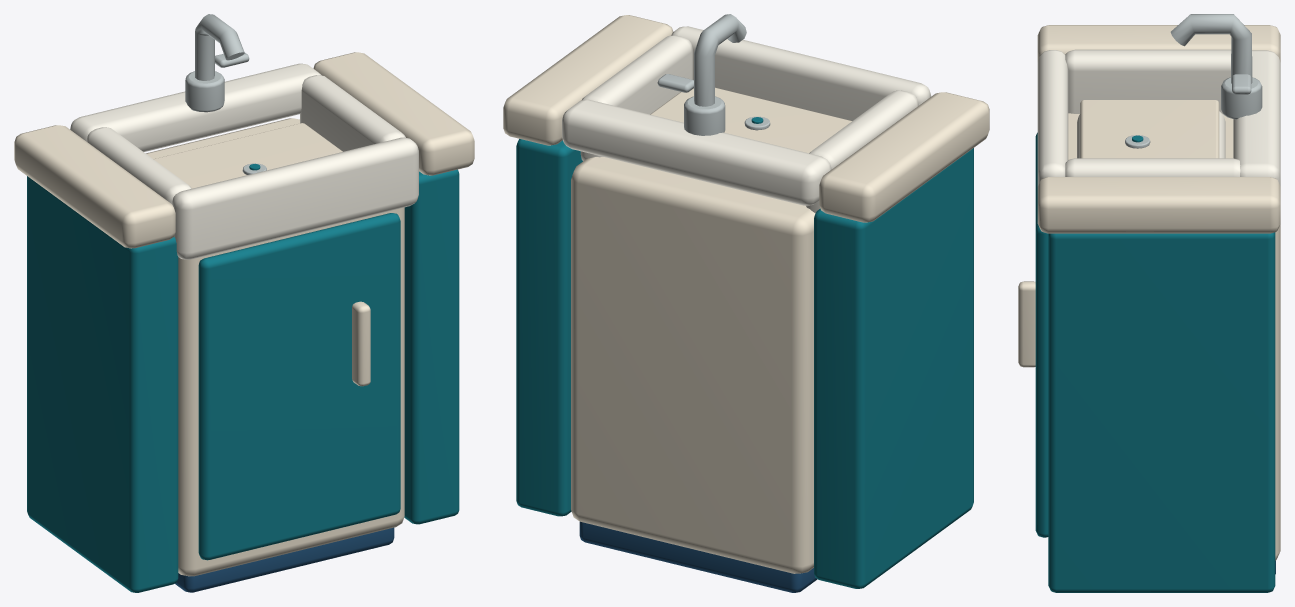
File: Restroom_Vanity_Single.glb
3 renders of one model, left to right at view 1: azimuth 30°, elevation 25°; view 2: azimuth 150°, elevation 25°; view 3: azimuth 270°, elevation 25°, orthographic. The views are drawn at different scales.
Visible parts, largest first — view 1: Restroom_Vanity_Single__Visual, Shared_Clinical_Handwash_Cabinet_Base.001__Visual, Shared_Clinical_Handwash_Basin.001__Visual; view 2: Restroom_Vanity_Single__Visual, Shared_Clinical_Handwash_Cabinet_Base.001__Visual, Shared_Clinical_Handwash_Basin.001__Visual; view 3: Restroom_Vanity_Single__Visual, Shared_Clinical_Handwash_Basin.001__Visual, Shared_Clinical_Handwash_Cabinet_Base.001__Visual.
Boxes of the visible parts, box(x1,y1,x2,y2) form: Restroom_Vanity_Single__Visual: box(14, 52, 474, 592); Shared_Clinical_Handwash_Cabinet_Base.001__Visual: box(146, 118, 404, 592); Shared_Clinical_Handwash_Basin.001__Visual: box(70, 14, 418, 259); Restroom_Vanity_Single__Visual: box(503, 15, 989, 588); Shared_Clinical_Handwash_Cabinet_Base.001__Visual: box(571, 157, 817, 592); Shared_Clinical_Handwash_Basin.001__Visual: box(562, 14, 931, 213); Restroom_Vanity_Single__Visual: box(1037, 25, 1280, 592); Shared_Clinical_Handwash_Basin.001__Visual: box(1037, 14, 1280, 186); Shared_Clinical_Handwash_Cabinet_Base.001__Visual: box(1018, 113, 1280, 574).
Size of the model in its own units: 0.8 by 1.08 by 0.497.
Materials: 1 (1 with a texture image).
